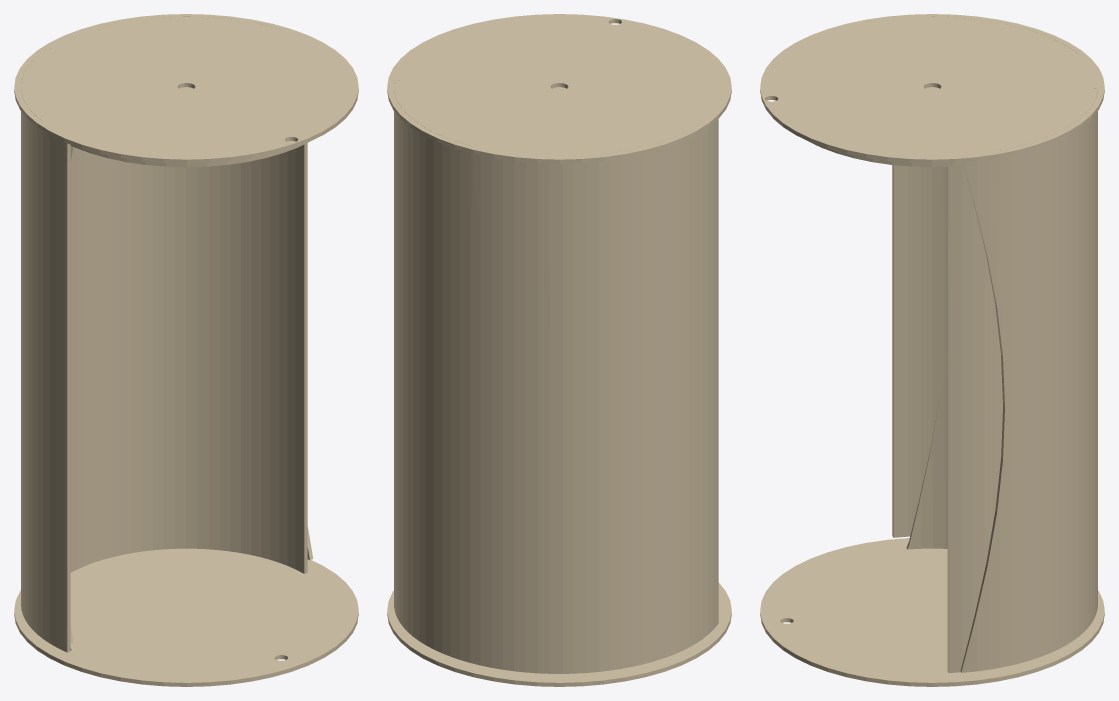
The model's file is samla.glb.
3 renders of one model, left to right at view 1: azimuth 30°, elevation 25°; view 2: azimuth 150°, elevation 25°; view 3: azimuth 270°, elevation 25°, orthographic.
Visible parts, largest first — view 1: slicer-augearbeid; view 2: slicer-augearbeid; view 3: slicer-augearbeid.
Part boxes in pixels (left/top/right/bottom): slicer-augearbeid: left=14, top=14, right=358, bottom=686; slicer-augearbeid: left=387, top=14, right=731, bottom=686; slicer-augearbeid: left=760, top=14, right=1104, bottom=686.
Size of the model in its own units: 0.154 by 0.26 by 0.154.
